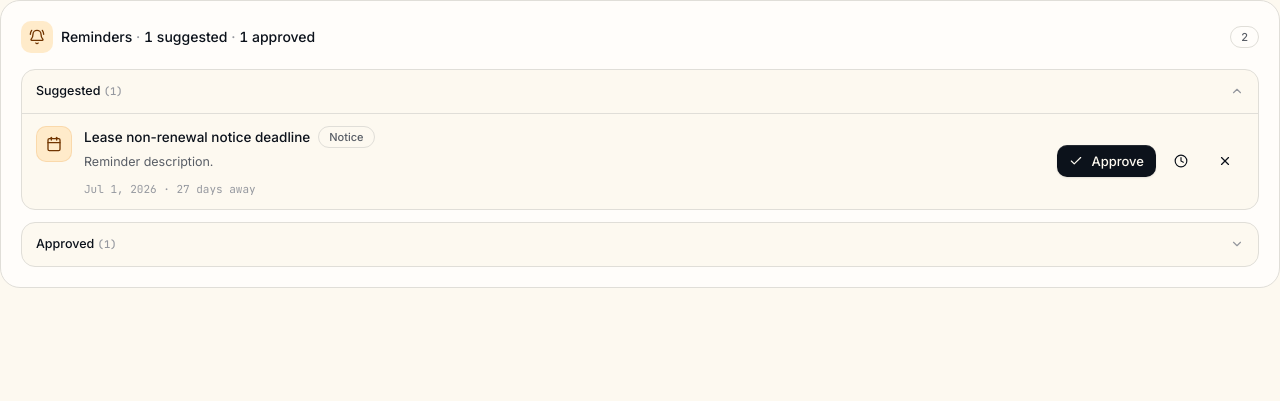
DocumentRemindersSection › renders suggested and approved subsections for document reminders
Expected: the heading "Reminders · 1 suggested · 1 approved" is shown, [61, 27, 315, 47]
Expected: the text "Lease non-renewal notice deadline" is shown, [84, 129, 310, 146]
Click the button "Approved (1)". click: [65, 244]
box: [22, 223, 1258, 266]
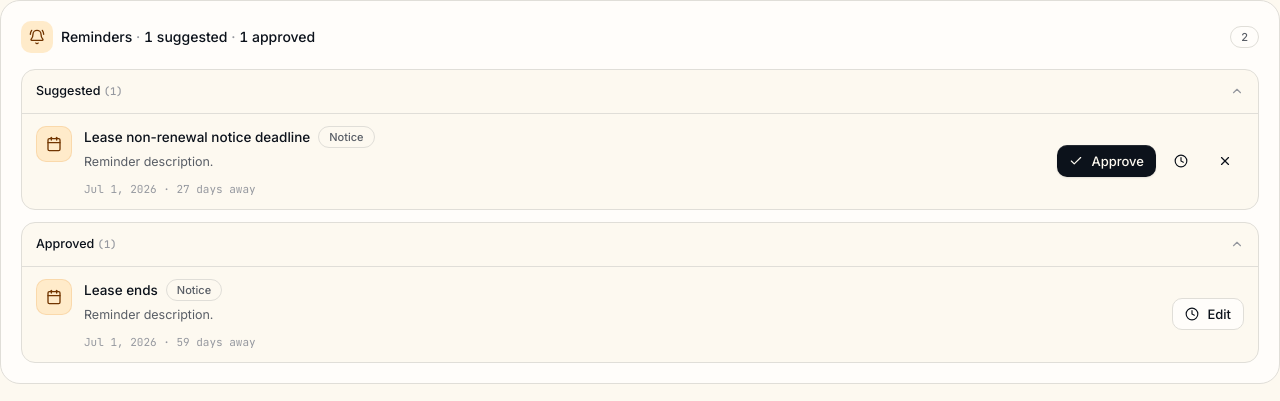
Expected: the text "Lease ends" is shown, [84, 282, 158, 298]
